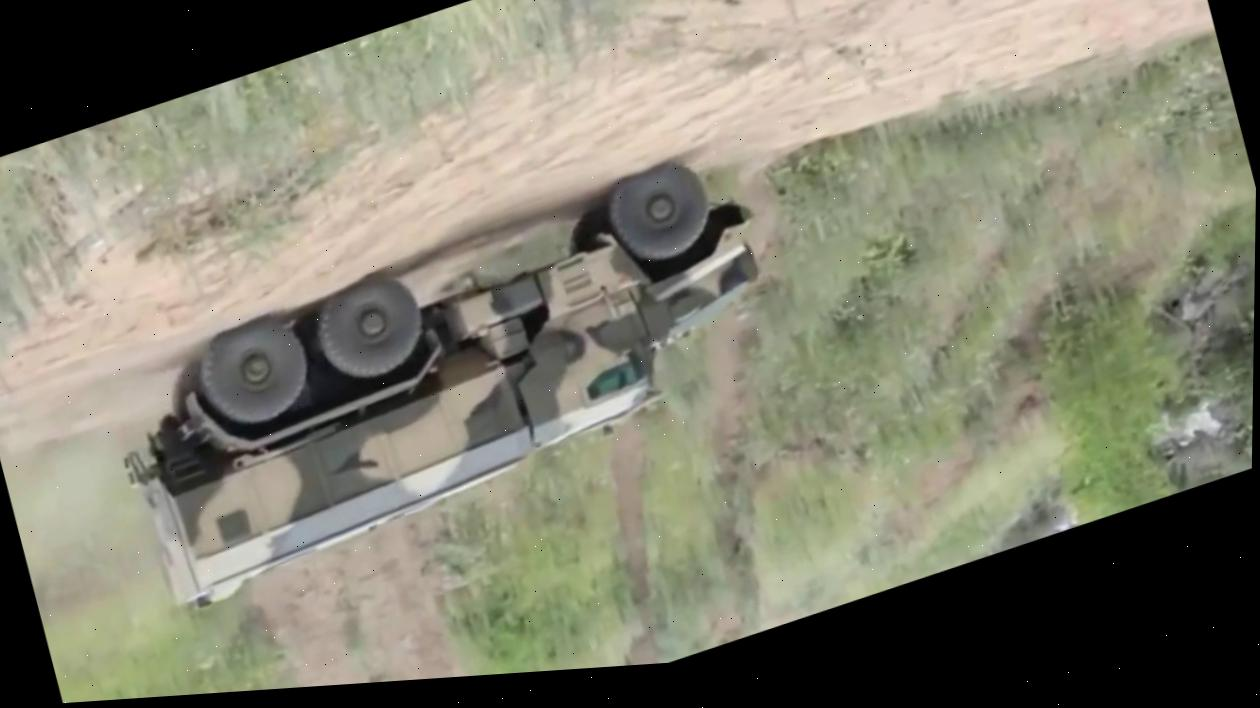truck: (88, 128, 810, 627)
